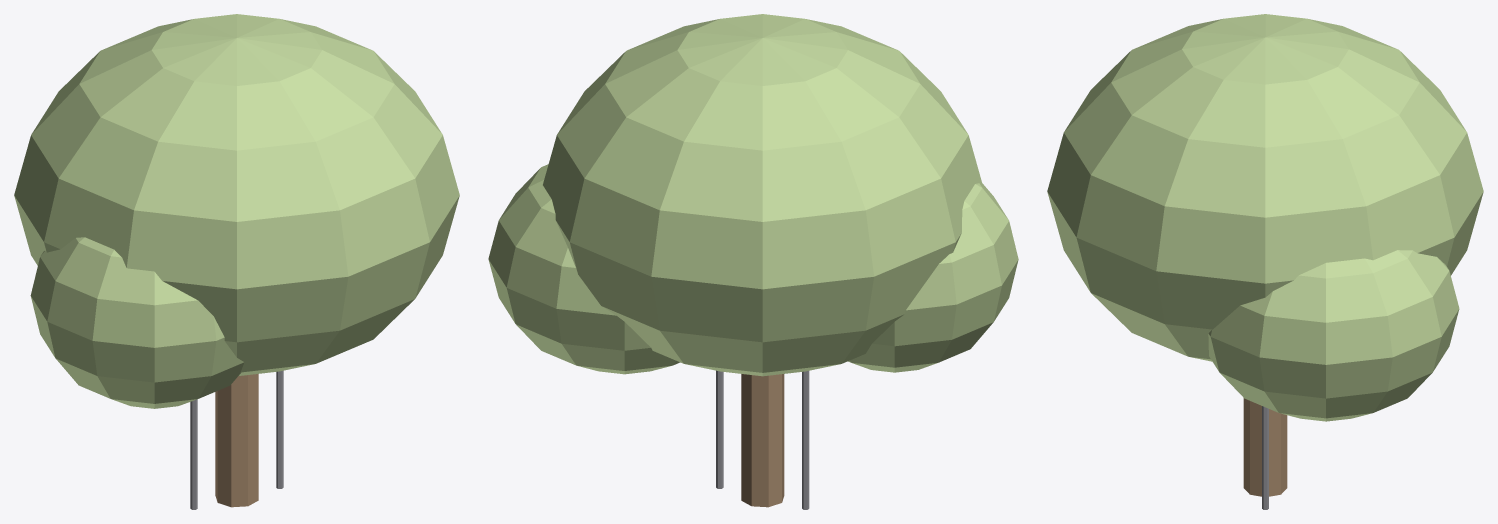
File: sapling_cage.glb
3 views of the same model, side by side, from view 1: azimuth 30°, elevation 25°; view 2: azimuth 150°, elevation 25°; view 3: azimuth 270°, elevation 25° (orthographic). The views are drawn at different scales.
Parts seen in each view (by area): view 1: canopy1, canopy3, trunk, cage2, cage1; view 2: canopy1, canopy2, canopy3, trunk, cage1, cage2; view 3: canopy1, canopy2, trunk, cage2.
Boxes of the visible parts, bbox=[...] form: canopy1: bbox=[14, 14, 459, 375]; canopy3: bbox=[30, 237, 244, 408]; trunk: bbox=[215, 374, 258, 507]; cage2: bbox=[276, 370, 283, 488]; cage1: bbox=[190, 399, 197, 509]; canopy1: bbox=[543, 14, 983, 376]; canopy2: bbox=[488, 164, 679, 374]; canopy3: bbox=[848, 183, 1018, 372]; trunk: bbox=[741, 374, 784, 507]; cage1: bbox=[802, 371, 809, 509]; cage2: bbox=[716, 370, 723, 488]; canopy1: bbox=[1047, 14, 1483, 361]; canopy2: bbox=[1208, 250, 1459, 421]; trunk: bbox=[1243, 398, 1287, 496]; cage2: bbox=[1262, 406, 1268, 509].
Size of the model in its own units: 4.1 by 4.1 by 3.6.
